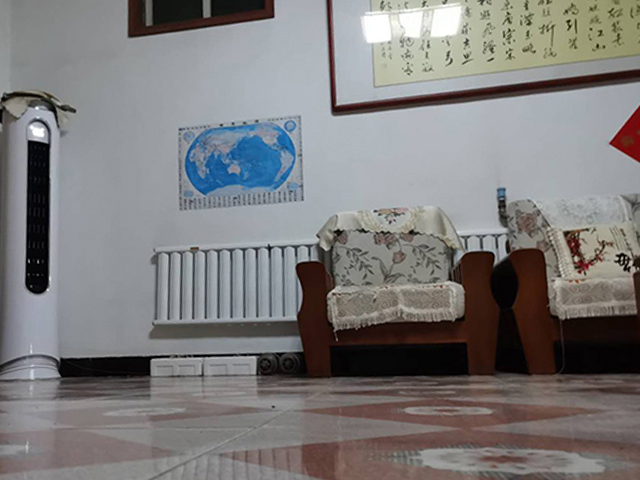sofa: (291, 202, 508, 375), (503, 190, 640, 379)
wire: (58, 356, 149, 378)
